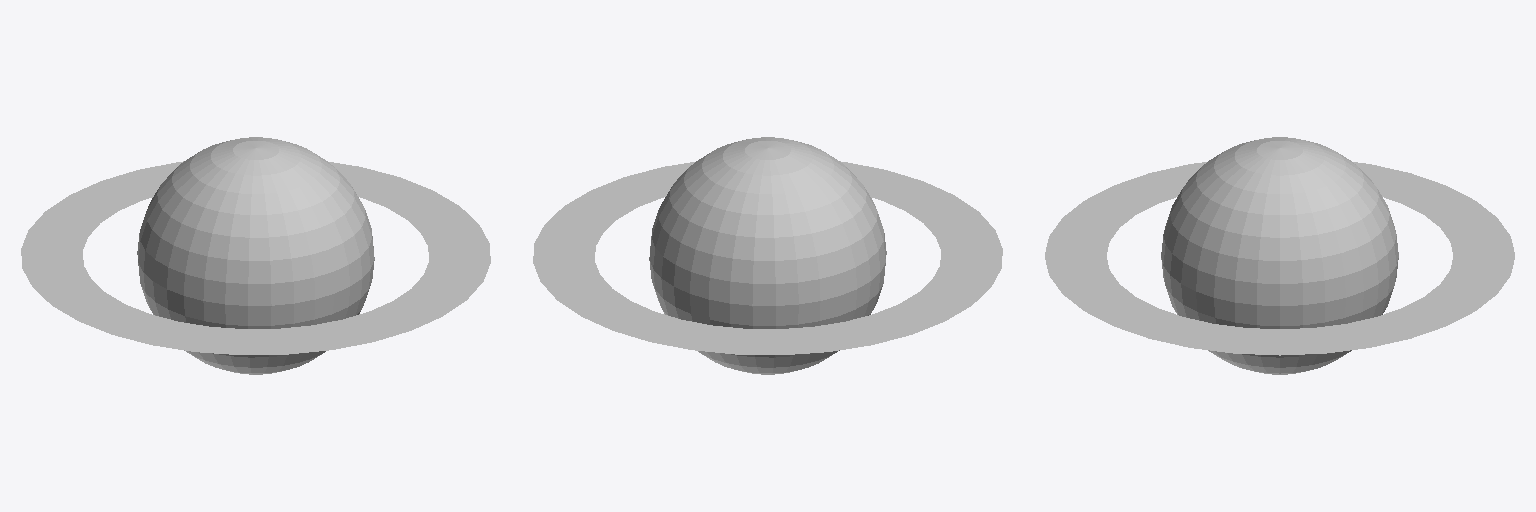
File: saturn.obj
3 renders of one model, left to right at view 1: azimuth 30°, elevation 25°; view 2: azimuth 150°, elevation 25°; view 3: azimuth 270°, elevation 25°, orthographic.
Parts seen in each view (by area): view 1: Sphere.001, Sphere.002; view 2: Sphere.001, Sphere.002; view 3: Sphere.001, Sphere.002.
Boxes of the visible parts, x1,y1,x2,y2 form: Sphere.001: [137, 137, 374, 374]; Sphere.002: [21, 161, 490, 354]; Sphere.001: [649, 137, 886, 374]; Sphere.002: [533, 161, 1002, 354]; Sphere.001: [1161, 137, 1398, 374]; Sphere.002: [1045, 162, 1514, 355].
Size of the model in its own units: 3.96 by 2 by 3.96.